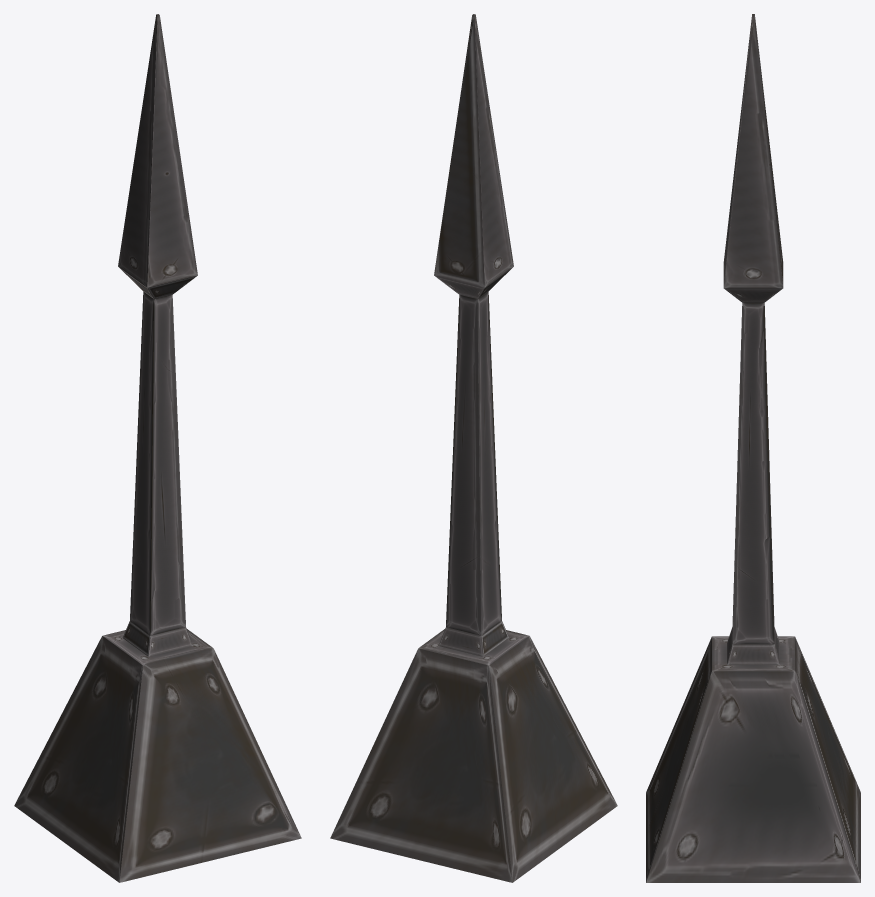
The model's file is SM_RoofSpike.fbx.
The picture shows the model from 3 angles, left to right: view 1: azimuth 30°, elevation 25°; view 2: azimuth 150°, elevation 25°; view 3: azimuth 270°, elevation 25°; orthographic projection.
Visible parts, largest first — view 1: SM_RoofSpike; view 2: SM_RoofSpike; view 3: SM_RoofSpike.
Boxes of the visible parts, x1,y1,x2,y2 form: SM_RoofSpike: (14, 14, 301, 882); SM_RoofSpike: (330, 14, 617, 882); SM_RoofSpike: (646, 14, 860, 882).
Size of the model in its own units: 0.9349 by 3.95 by 0.9349.
